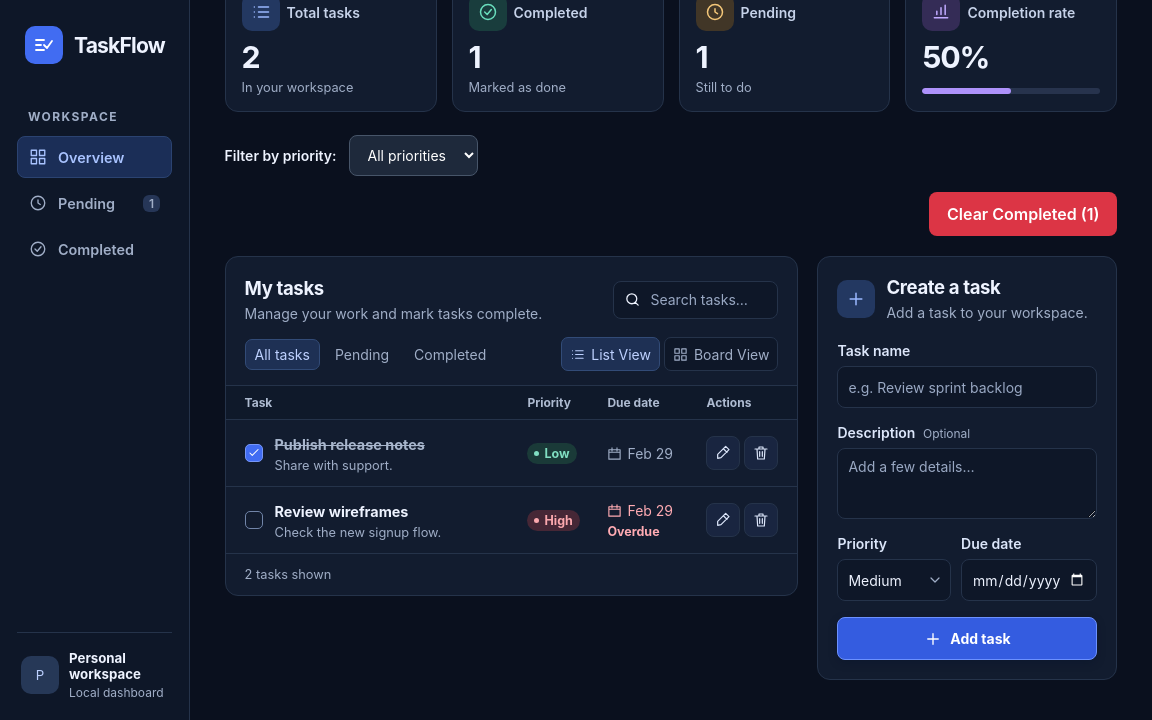
Test: TaskFlow › keeps cancelled edits and saves changes without changing completion
Later steps or results of the test are not shown.
(page scrolled)
Click the button named "Edit: Publish release notes" at (724, 453), box top-left (706, 436), bottom-right (740, 470)
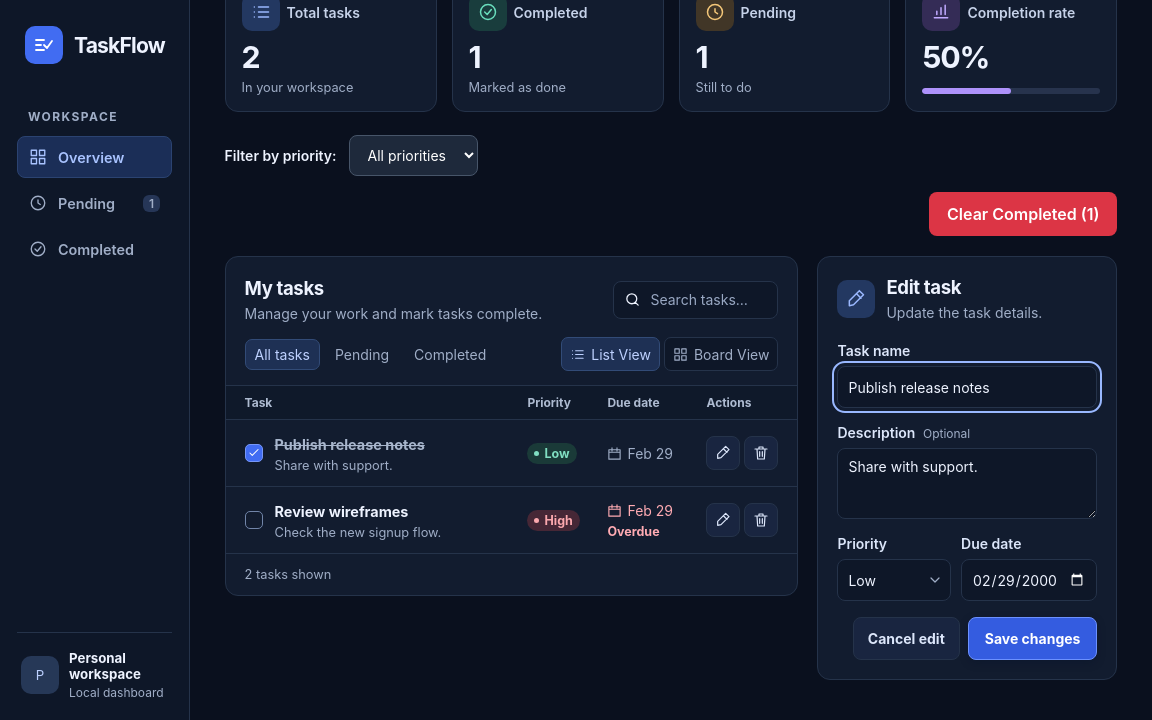
Now the field labelled "Task name" holds "Publish release notes", box top-left (838, 366), bottom-right (1098, 408)
